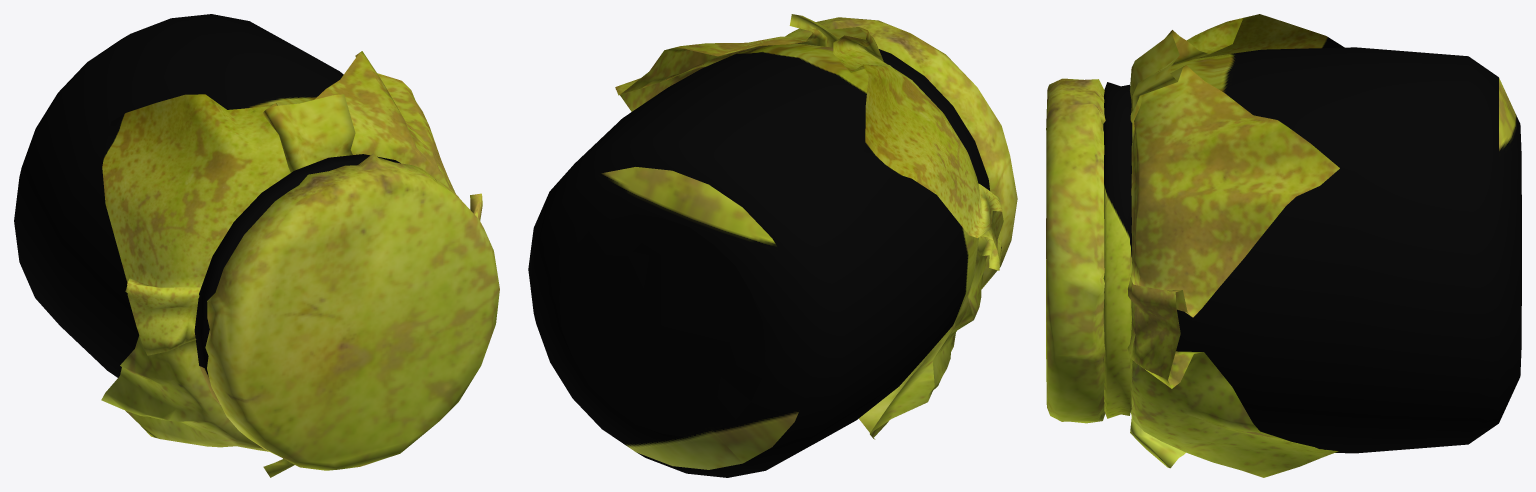
3 renders of one model, left to right at view 1: azimuth 30°, elevation 25°; view 2: azimuth 150°, elevation 25°; view 3: azimuth 270°, elevation 25°, orthographic. The views are drawn at different scales.
Bounding box in the file's own units: 0.9355 × 0.923 × 1.
